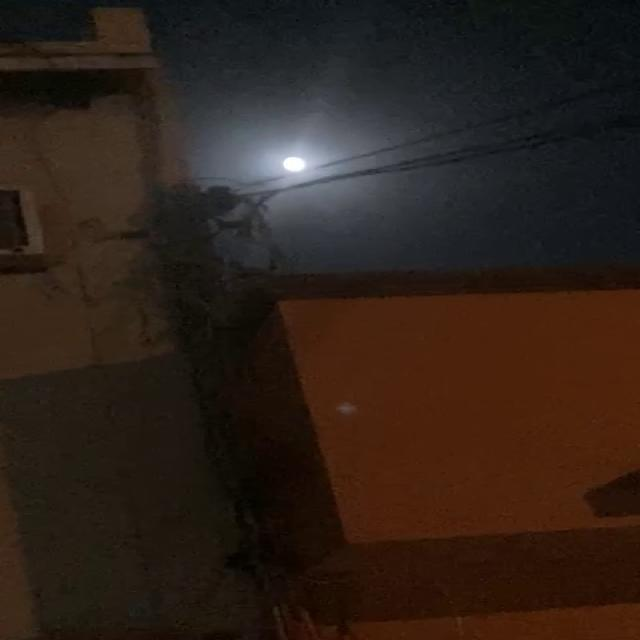moon: (285, 152, 307, 173)
